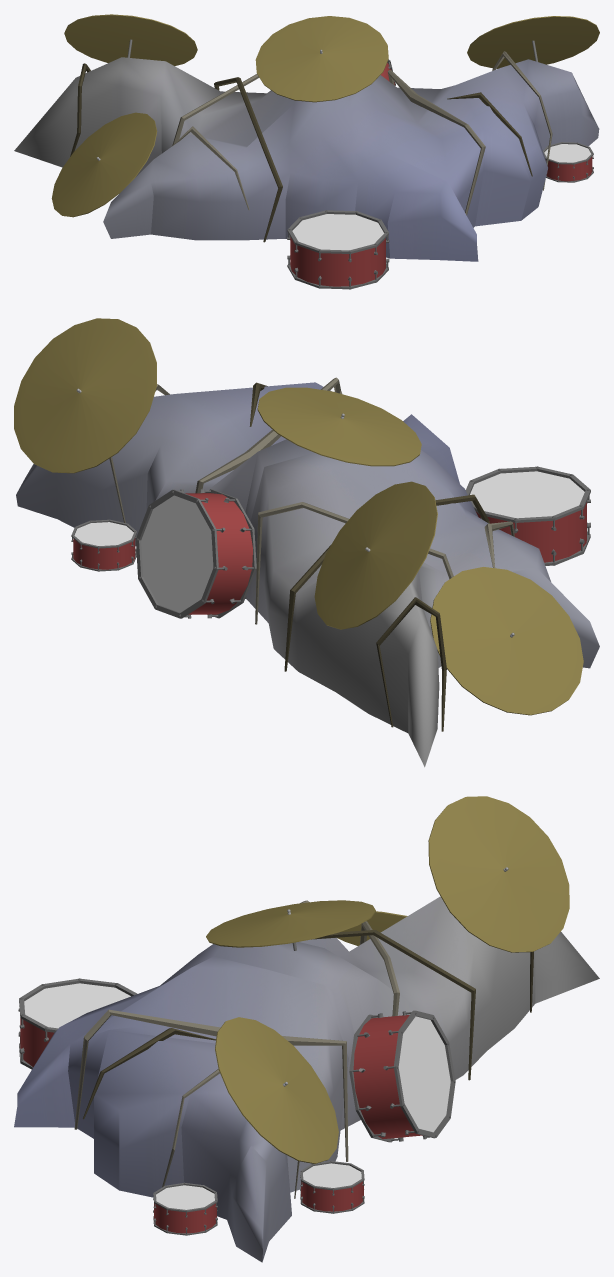
File: 13_debris_c.fbx
3 renders of one model, top to bottom at view 1: azimuth 30°, elevation 25°; view 2: azimuth 150°, elevation 25°; view 3: azimuth 270°, elevation 25°, orthographic. The views are drawn at different scales.
Visible parts, largest first — view 1: bevelPolygon13; view 2: bevelPolygon13; view 3: bevelPolygon13.
Part boxes in pixels (x1,y1,x2,y2): bevelPolygon13: [14, 14, 599, 289]; bevelPolygon13: [14, 318, 599, 767]; bevelPolygon13: [14, 796, 599, 1262].
Size of the model in its own units: 2147 by 702 by 1747.
